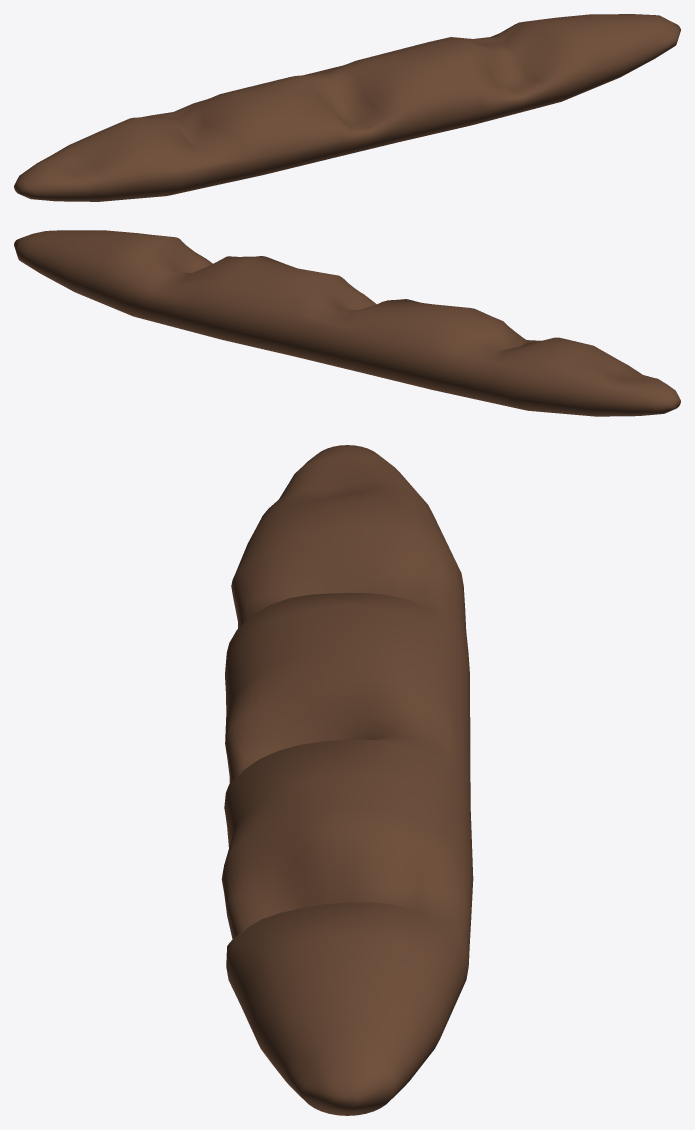
The model's file is Pan.fbx.
3 renders of one model, top to bottom at view 1: azimuth 30°, elevation 25°; view 2: azimuth 150°, elevation 25°; view 3: azimuth 270°, elevation 25°, orthographic. The views are drawn at different scales.
Visible parts, largest first — view 1: Pan; view 2: Pan; view 3: Pan.
Part boxes in pixels (<box>): Pan: <box>14,14,680,201</box>; Pan: <box>14,230,680,416</box>; Pan: <box>221,445,473,1115</box>.
Size of the model in its own units: 341 by 35.18 by 56.17.
